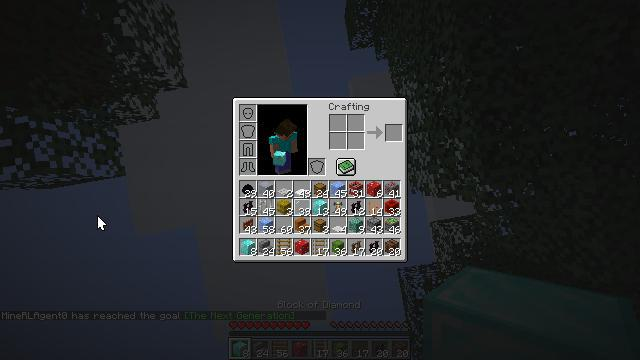cursor: (215, 97, 231, 107)
